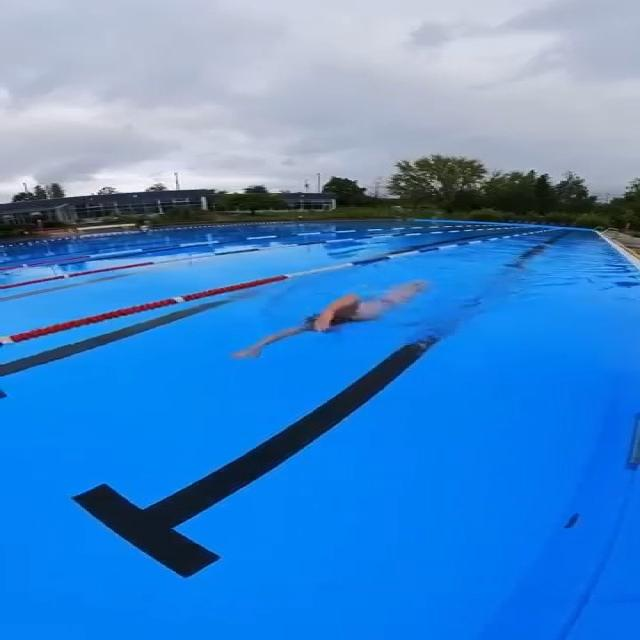Swimming: (230, 277, 444, 364)
